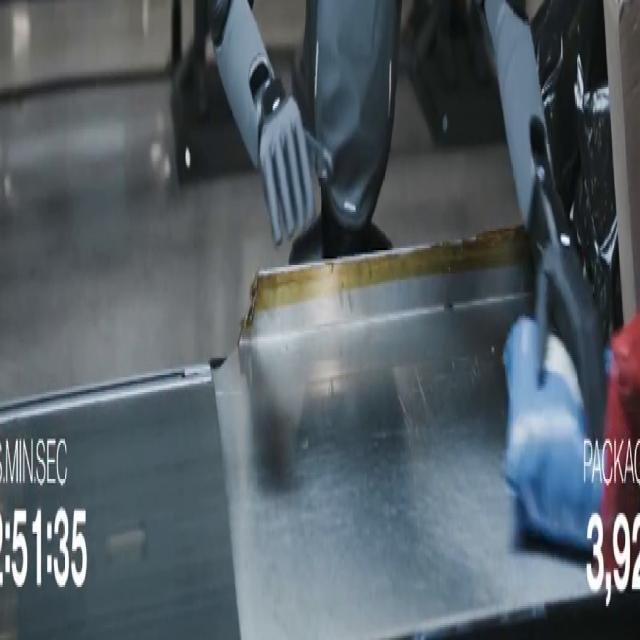package: (532, 0, 621, 341), (504, 318, 602, 550), (601, 316, 639, 572)
